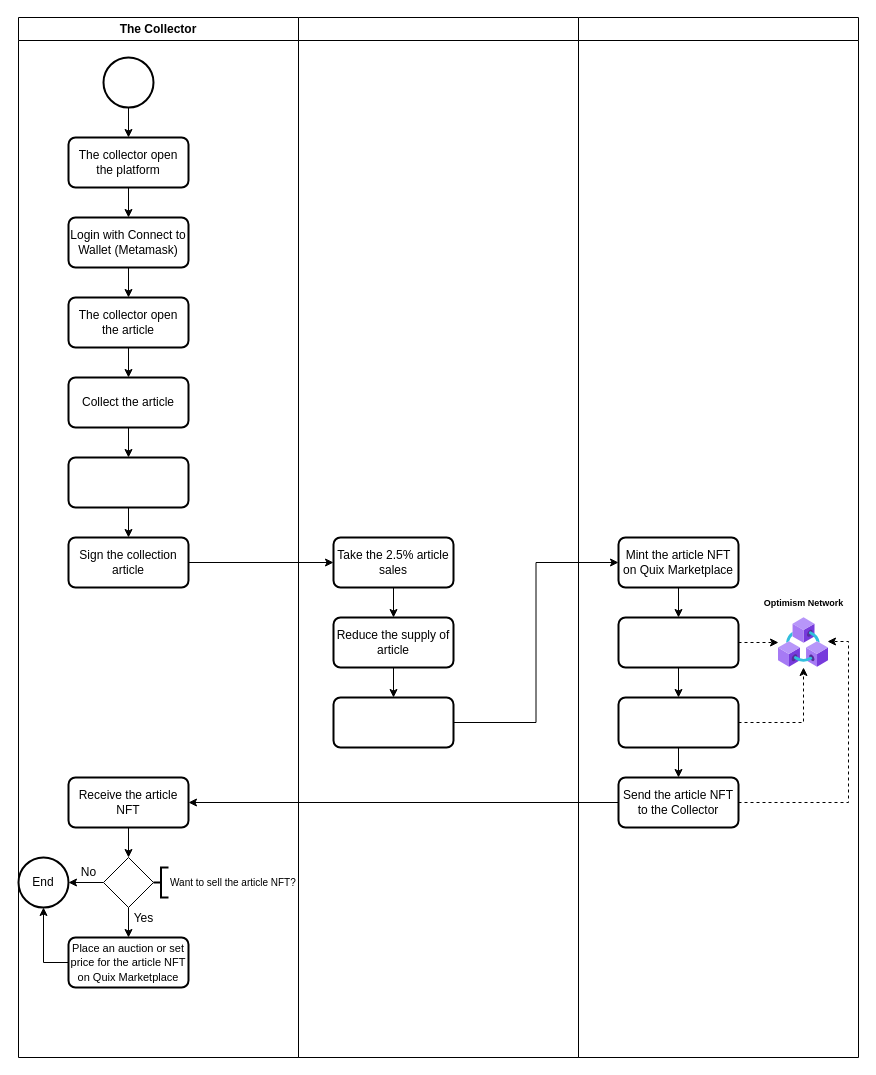
The diagram is 876 pixels wide and 1075 high, and some of its shapes have lost their labels. The box of each missing label's shape, as (x1, y1, x2, y2) in pixels:
A collector pay gas fee or article on Optimism Network: (67, 456, 189, 508)
Adding the article to Collector's Collection: (332, 696, 454, 748)
Blockchain System: (578, 16, 858, 1058)
Generate the contract address of article on blockchain: (617, 616, 739, 668)
Generate the hash transaction of article NFT ownership proof: (617, 696, 739, 748)
MirrorXYZ System: (298, 16, 578, 1058)
Start: (102, 56, 154, 108)
